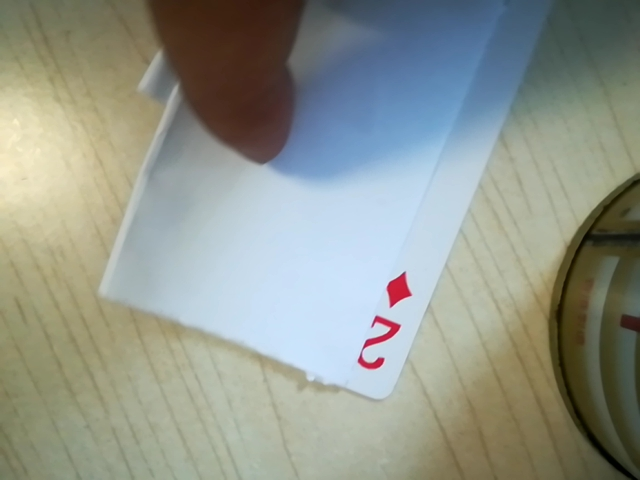fk 2: (346, 266, 416, 379)
